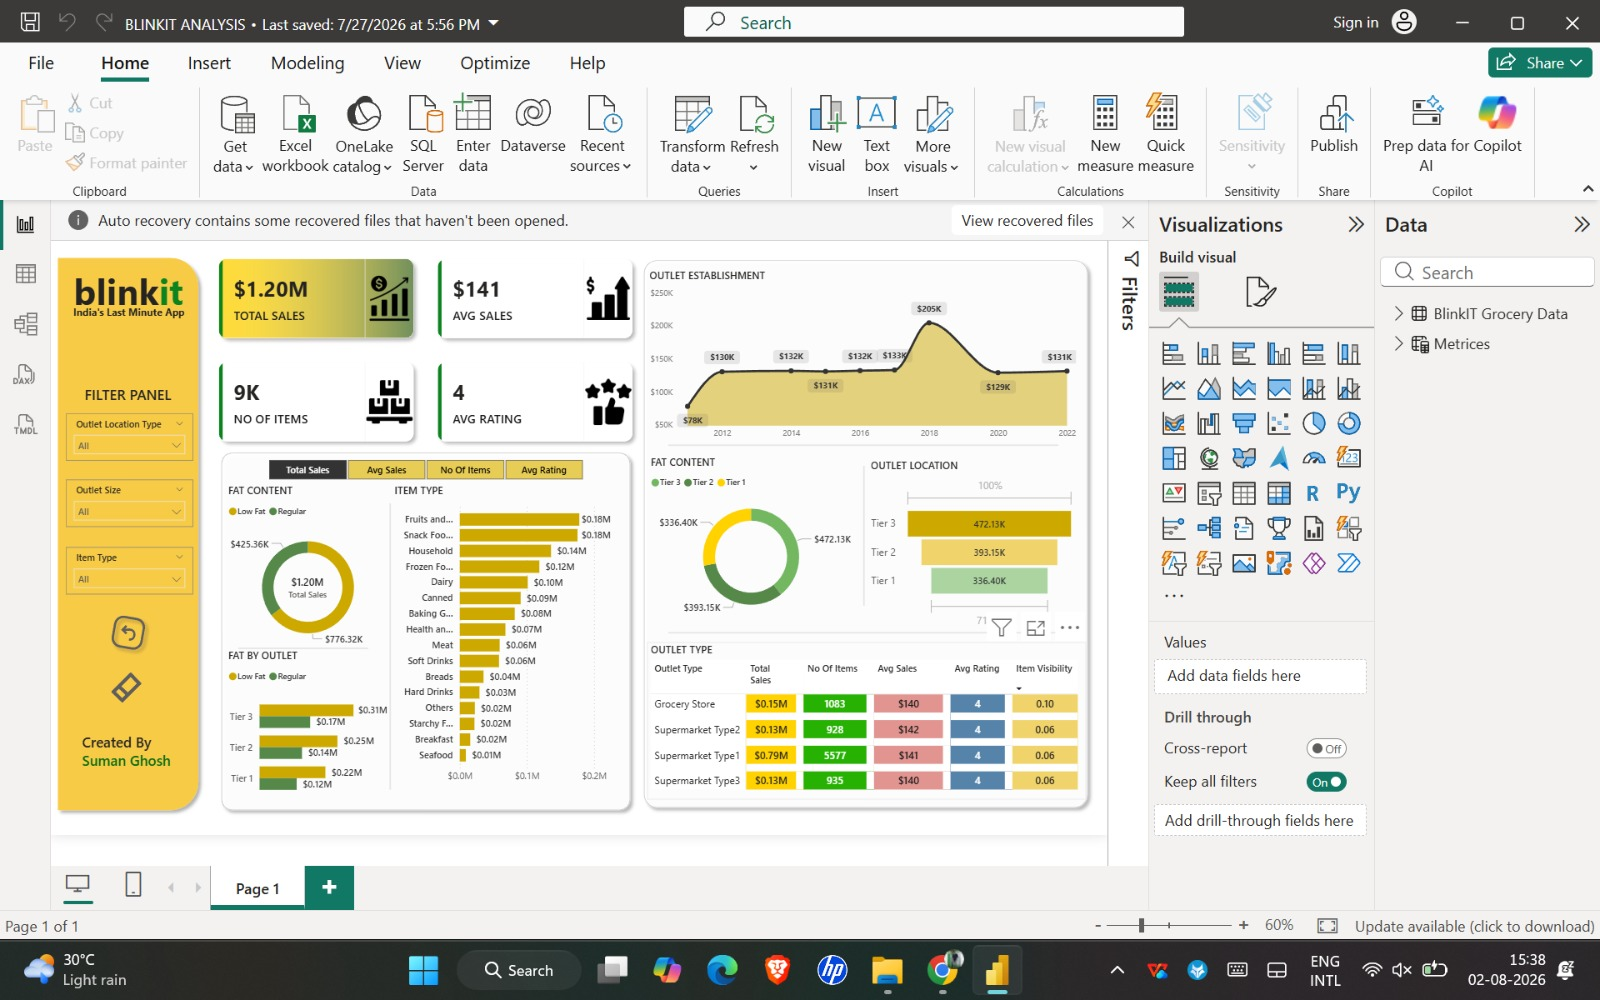

The page's visual inventory and layout, read from the dashboard file:
{"tool":"powerbi","page":{"name":"Page 1","canvas":[1400,800],"ordinal":0},"visuals":[{"type":"shape","box":[0,26.9,204.6,750.3],"z":0},{"type":"textbox","box":[18.6,41.3,169.5,74.4],"z":1000},{"type":"textbox","box":[18.2,92.7,170.6,74.5],"z":2000},{"type":"cardVisual","fields":{"Data":["BlinkIT Grocery Data.Total Sales","BlinkIT Grocery Data.Avg Sales","BlinkIT Grocery Data.No Of Items","BlinkIT Grocery Data.Avg Rating"]},"box":[205.4,0,583,316.3],"z":3000},{"type":"shape","box":[217,284.9,559.8,491.9],"z":4000},{"type":"donutChart","title":"FAT CONTENT","fields":{"Y":["BlinkIT Grocery Data.Total Sales"],"Category":["BlinkIT Grocery Data.Item Fat Content"]},"box":[230.2,334.5,220.3,230.2],"z":5000},{"type":"slicer","fields":{"Values":["Metrices.Metrices"]},"box":[263.3,296.5,465.4,38.1],"z":6000},{"type":"cardVisual","fields":{"Data":["BlinkIT Grocery Data.Total Sales"]},"box":[281.5,438.9,117.6,67.9],"z":7000},{"type":"clusteredBarChart","title":"FAT BY OUTLET","fields":{"Y":["BlinkIT Grocery Data.Total Sales"],"Category":["BlinkIT Grocery Data.Outlet Location Type"],"Series":["BlinkIT Grocery Data.Item Fat Content"]},"box":[230.2,553.2,220.3,210.3],"z":8000},{"type":"shape","box":[248.4,525,172.2,56.3],"z":9000},{"type":"shape","box":[419,361,61.3,379.3],"z":10000},{"type":"barChart","title":"ITEM TYPE","fields":{"Y":["BlinkIT Grocery Data.Total Sales"],"Category":["BlinkIT Grocery Data.Item Type"]},"box":[450.5,334.5,313,405.8],"z":11000},{"type":"shape","box":[776.7,29.8,606.2,743.6],"z":12000},{"type":"lineChart","title":"OUTLET ESTABLISHMENT","fields":{"Y":["BlinkIT Grocery Data.Total Sales"],"Category":["BlinkIT Grocery Data.Outlet Establishment Year"]},"box":[788.3,49.7,574.7,235.2],"z":13000},{"type":"shape","box":[818.1,263.3,516.7,41.4],"z":14000},{"type":"donutChart","title":"FAT CONTENT","fields":{"Y":["BlinkIT Grocery Data.Total Sales"],"Category":["BlinkIT Grocery Data.Outlet Location Type"]},"box":[790,296.5,274.9,225.2],"z":15000},{"type":"shape","box":[1056.6,311.4,41.4,185.5],"z":16000},{"type":"funnel","title":"OUTLET LOCATION","fields":{"Y":["Sum(BlinkIT Grocery Data.Sales)"],"Category":["BlinkIT Grocery Data.Outlet Location Type"]},"box":[1081.5,301.4,279.9,230.2],"z":17000},{"type":"shape","box":[818.1,511.8,516.7,41.4],"z":18000},{"type":"pivotTable","title":"OUTLET TYPE","fields":{"Rows":["BlinkIT Grocery Data.Outlet Type"],"Values":["BlinkIT Grocery Data.Total Sales","BlinkIT Grocery Data.No Of Items","BlinkIT Grocery Data.Avg Sales","BlinkIT Grocery Data.Avg Rating","Avg(BlinkIT Grocery Data.Item Visibility)"]},"box":[790,544.9,581.3,208.7],"z":19000},{"type":"slicer","fields":{"Values":["BlinkIT Grocery Data.Outlet Location Type"]},"box":[19.9,241.8,168.9,62.9],"z":20000},{"type":"slicer","fields":{"Values":["BlinkIT Grocery Data.Outlet Size"]},"box":[19.9,329.6,168.9,62.9],"z":21000},{"type":"slicer","fields":{"Values":["BlinkIT Grocery Data.Item Type"]},"box":[19.9,419,168.9,62.9],"z":22000},{"type":"textbox","box":[39.7,198.7,130.8,41.4],"z":23000},{"type":"actionButton","box":[69.6,498.5,66.2,67.9],"z":24000},{"type":"actionButton","box":[76.2,581.3,51.3,48],"z":25000},{"type":"textbox","box":[36.4,659.2,130.8,81.2],"z":26000}]}

Visuals, with their boxes on the page's 1400x800 design canvas (x1, y1, x2, y2). These are canvas units, not pixel positions in the 1600x1000 screenshot, which may show the page scaled, cropped or inside an application window:
shape: 0 27 205 777
textbox: 19 41 188 116
textbox: 18 93 189 167
cardVisual - BlinkIT Grocery Data.Total Sales x BlinkIT Grocery Data.Avg Sales: 205 0 788 316
shape: 217 285 777 777
"FAT CONTENT" donutChart: 230 334 450 565
slicer - Metrices.Metrices: 263 296 729 335
cardVisual - BlinkIT Grocery Data.Total Sales: 282 439 399 507
"FAT BY OUTLET" clusteredBarChart: 230 553 450 764
shape: 248 525 421 581
shape: 419 361 480 740
"ITEM TYPE" barChart: 450 334 764 740
shape: 777 30 1383 773
"OUTLET ESTABLISHMENT" lineChart: 788 50 1363 285
shape: 818 263 1335 305
"FAT CONTENT" donutChart: 790 296 1065 522
shape: 1057 311 1098 497
"OUTLET LOCATION" funnel: 1082 301 1361 532
shape: 818 512 1335 553
"OUTLET TYPE" pivotTable: 790 545 1371 754
slicer - BlinkIT Grocery Data.Outlet Location Type: 20 242 189 305
slicer - BlinkIT Grocery Data.Outlet Size: 20 330 189 392
slicer - BlinkIT Grocery Data.Item Type: 20 419 189 482
textbox: 40 199 170 240
actionButton: 70 498 136 566
actionButton: 76 581 128 629
textbox: 36 659 167 740
